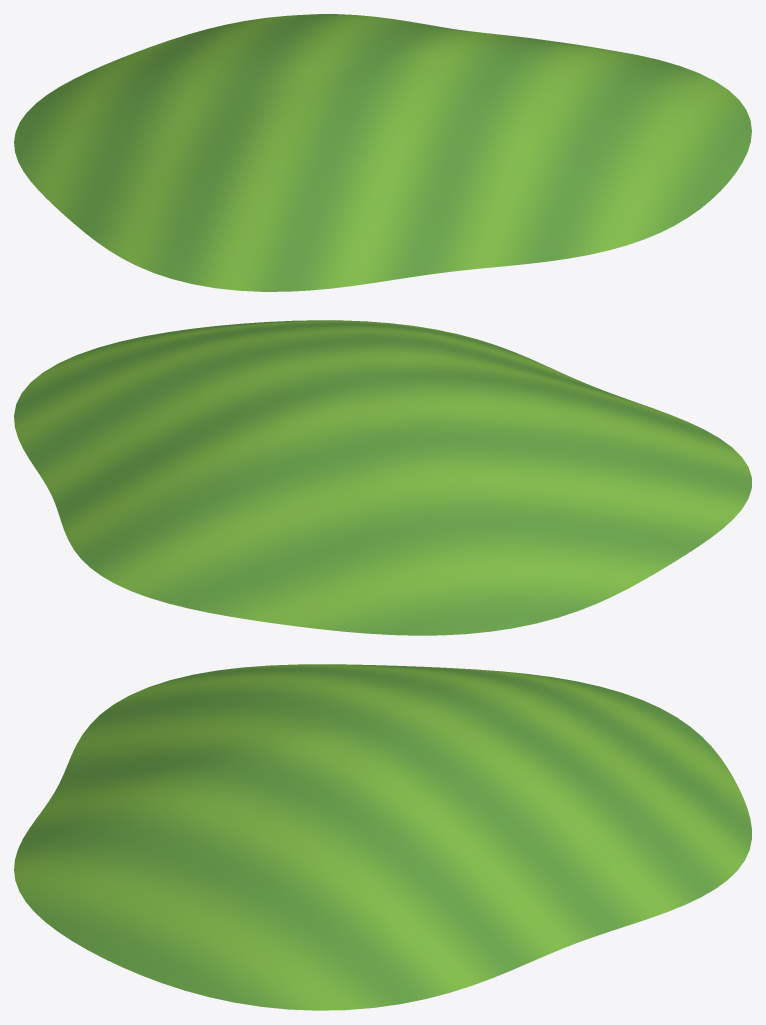
File: ISL-L_LOD0_Grass.fbx
3 views of the same model, one above another, from view 1: azimuth 30°, elevation 25°; view 2: azimuth 150°, elevation 25°; view 3: azimuth 270°, elevation 25° (orthographic). The views are drawn at different scales.
Visible parts, largest first — view 1: ISL-L_LOD0_Grass; view 2: ISL-L_LOD0_Grass; view 3: ISL-L_LOD0_Grass.
Boxes of the visible parts, left/top/right/bottom form: ISL-L_LOD0_Grass: left=14, top=14, right=751, bottom=291; ISL-L_LOD0_Grass: left=14, top=320, right=751, bottom=635; ISL-L_LOD0_Grass: left=14, top=664, right=751, bottom=1010.
Bounding box in the file's own units: 151 × 136 × 20.8.
